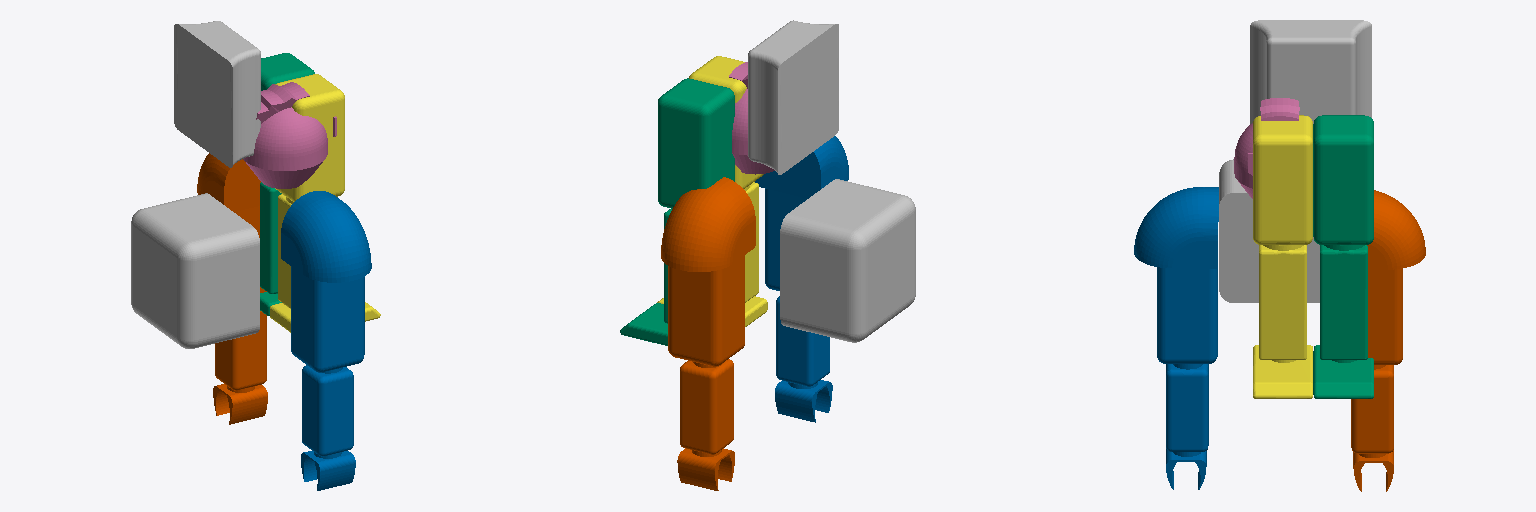
URDF robot description (myfirst):
<?xml version="1.0"?>
<robot name="myfirst">

<material name="blue">
    <color rgba="0 0 0.8 1"/>
  </material>
  <material name="black">
    <color rgba="0 0 0 1"/>
  </material>
  <material name="white">
    <color rgba="1 1 1 1"/>
  </material>
  
  <link name="base_link">
    <visual>
      <origin rpy="0 0 1.5708" xyz="-0.11 -0.2 0.85"/>
      <geometry>
        <mesh filename="package://project_ars/meshes/body.dae"/>
      </geometry>
    </visual>
     <collision>
      <geometry>
        <mesh filename="package://project_ars/meshes/body.dae"/>
      </geometry>
      <origin rpy="0 0 1.5708" xyz="-0.11 -0.2 0.85"/>
    </collision>
    <inertial>
      <mass value="30"/>
      <inertia ixx="1e-3" ixy="0.0" ixz="0.0" iyy="1e-3" iyz="0.0" izz="1e-3"/>
    </inertial>
  </link>
  
  <link name="pelvis">
    <visual>
      <origin rpy="0 0 1.5708" xyz="-0.11 -0.2 0.7"/>
      <geometry>
        <mesh filename="package://project_ars/meshes/pelvis.dae"/>
      </geometry>
    </visual>
     <collision>
      <geometry>
        <mesh filename="package://project_ars/meshes/pelvis.dae"/>
      </geometry>
      <origin rpy="0 0 1.5708" xyz="-0.11 -0.2 0.7"/>
    </collision>
    <inertial>
      <mass value="30"/>
      <inertia ixx="1e-3" ixy="0.0" ixz="0.0" iyy="1e-3" iyz="0.0" izz="1e-3"/>
    </inertial>
  </link>
  
  <joint name="base_link_to_left_leg" type="fixed">
    <axis xyz="0 -0.5 0"/>
    <limit effort="1000.0" lower="-0.850" upper="1.3" velocity="0.5"/>
    <parent link="base_link"/>
    <child link="pelvis"/>
    <origin rpy="0 0 0" xyz="0.1 0.1 0.75"/>
  </joint>
 
   <link name="left_leg">
    <visual>
      <origin rpy="0 0 1.5708" xyz="-0.1 -0.09 -0.9"/>
      <geometry>
        <mesh filename="package://project_ars/meshes/LegSat.dae"/>
      </geometry>
    </visual>
    <collision>
      <geometry>
        <mesh filename="package://project_ars/meshes/LegSat.dae"/>
      </geometry>
      <origin rpy="0 0 1.5708" xyz="-0.1 -0.09 -0.9"/>
    </collision>
    <inertial>
      <mass value="15"/>
      <inertia ixx="1e-3" ixy="0.0" ixz="0.0" iyy="1e-3" iyz="0.0" izz="1e-3"/>
    </inertial>
  </link>
  
  <joint name="base_link_to_left_leg" type="revolute">
    <axis xyz="0 -0.5 0"/>
    <limit effort="1000.0" lower="-0.850" upper="1.3" velocity="0.5"/>
    <parent link="pelvis"/>
    <child link="left_leg"/>
    <origin rpy="0 0 0" xyz="0.1 0.1 0.9"/>
  </joint>
  
  <link name="right_leg">
    <visual>
      <origin rpy="0 0 1.5708" xyz="-0.1 -0.09 -0.9"/>
      <geometry>
        <mesh filename="package://project_ars/meshes/LegSat.dae"/>
      </geometry>
    </visual>
    <collision>
      <geometry>
        <mesh filename="package://project_ars/meshes/LegSat.dae"/>
      </geometry>
      <origin rpy="0 0 1.5708" xyz="-0.1 -0.09 -0.9"/>
    </collision>
    <inertial>
      <mass value="15"/>
      <inertia ixx="1e-3" ixy="0.0" ixz="0.0" iyy="1e-3" iyz="0.0" izz="1e-3"/>
    </inertial>
  </link>
  
  <joint name="base_link_to_right_leg" type="revolute">
    <axis xyz="0 -0.5 0"/>
    <limit effort="1000.0" lower="-0.850" upper="1.3" velocity="0.5"/>
    <parent link="pelvis"/>
    <child link="right_leg"/>
    <origin rpy="0 0 0" xyz="0.1 -0.1 0.9"/>
  </joint>
  
  <link name="right_hand">
    <visual>
      <origin rpy="0 0 1.5708" xyz="-0.13 -0.33 -0.9"/>
      <geometry>
        <mesh filename="package://project_ars/meshes/HandSat.dae"/>
      </geometry>
    </visual>
    <collision>
      <geometry>
        <mesh filename="package://project_ars/meshes/HandSat.dae"/>
      </geometry>
      <origin rpy="0 0 1.5708" xyz="-0.13 -0.33 -0.9"/>
    </collision>
    <inertial>
      <mass value="8"/>
      <inertia ixx="1e-3" ixy="0.0" ixz="0.0" iyy="1e-3" iyz="0.0" izz="1e-3"/>
    </inertial>
  </link>
  
  <joint name="base_link_to_right_hand" type="revolute">
    <axis xyz="0 -0.5 0"/>
    <limit effort="1000.0" lower="-0.850" upper="3.2" velocity="0.5"/>
    <parent link="base_link"/>
    <child link="right_hand"/>
    <origin rpy="0 0 0" xyz="0.1 -0.15 1.2"/>
  </joint>
  
  <link name="left_hand">
    <visual>
      <origin rpy="0 0 1.5708" xyz="-0.13 -0.33 -0.9"/>
      <geometry>
        <mesh filename="package://project_ars/meshes/HandSat.dae"/>
      </geometry>
    </visual>
    <collision>
      <geometry>
        <mesh filename="package://project_ars/meshes/HandSat.dae"/>
      </geometry>
      <origin rpy="0 0 1.5708" xyz="-0.13 -0.33 -0.9"/>
    </collision>
    <inertial>
      <mass value="8"/>
      <inertia ixx="1e-3" ixy="0.0" ixz="0.0" iyy="1e-3" iyz="0.0" izz="1e-3"/>
    </inertial>
  </link>
  
  <joint name="base_link_to_left_hand" type="revolute">
    <axis xyz="0 0.5 0"/>
    <limit effort="1000.0" lower="-0.850" upper="3.2" velocity="0.5"/>
    <parent link="base_link"/>
    <child link="left_hand"/>
    <origin rpy="0 0 3.1416" xyz="0.1 0.15 1.2"/>
  </joint>
  
  <link name="head">
    <visual>
      <origin rpy="0 0 1.5708" xyz="-0.2 -0.15 0"/>
      <geometry>
        <mesh filename="package://project_ars/meshes/HeadSat.dae"/>
      </geometry>
    </visual>
    <collision>
      <geometry>
        <mesh filename="package://project_ars/meshes/HeadSat.dae"/>
      </geometry>
      <origin rpy="0 0 1.5708" xyz="-0.2 -0.15 0"/>
    </collision>
    <inertial>
      <mass value="2"/>
      <inertia ixx="1e-3" ixy="0.0" ixz="0.0" iyy="1e-3" iyz="0.0" izz="1e-3"/>
    </inertial>
  </link>
  
  <joint name="base_link_to_head" type="revolute">
    <axis xyz="0 0 0.5"/>
    <limit effort="1000.0" lower="-0.850" upper="0.850" velocity="0.5"/>
    <parent link="base_link"/>
    <child link="head"/>
    <origin rpy="0 0 0" xyz="0.1 0 1.32"/>
  </joint>
 </robot>
 
 

--- What the picture shows (computed from the rendered views, not written in the file) ---
Views: 3 orthographic renders of the robot side by side, from view 1: azimuth 30°, elevation 25°; view 2: azimuth 150°, elevation 25°; view 3: azimuth 270°, elevation 25°.
Model myfirst with 7 links and 6 joints (5 revolute, 1 fixed), rooted at base_link, posed every joint at zero.
Visible links, largest first — view 1: right_hand, base_link, pelvis, left_hand, head, right_leg, left_leg; view 2: left_hand, base_link, pelvis, left_leg, right_hand, right_leg, head; view 3: right_hand, left_leg, right_leg, pelvis, left_hand, base_link, head.
Boxes of the visible links, x1,y1,x2,y2 form: right_hand: [281, 191, 371, 490]; base_link: [131, 193, 259, 348]; pelvis: [174, 21, 260, 167]; left_hand: [197, 153, 267, 424]; head: [243, 82, 336, 188]; right_leg: [270, 74, 380, 332]; left_leg: [260, 53, 314, 315]; left_hand: [661, 177, 755, 490]; base_link: [780, 179, 915, 342]; pelvis: [748, 20, 838, 174]; left_leg: [620, 78, 734, 345]; right_hand: [755, 136, 848, 422]; right_leg: [657, 56, 767, 326]; head: [729, 62, 774, 174]; right_hand: [1134, 187, 1218, 489]; left_leg: [1313, 115, 1373, 398]; right_leg: [1253, 115, 1312, 398]; pelvis: [1250, 20, 1371, 123]; left_hand: [1351, 190, 1425, 491]; base_link: [1219, 159, 1319, 302]; head: [1234, 98, 1299, 198].
Bounding box of the posed robot: 0.843 × 0.96 × 1.55 m (x, y, z).
Meshes: 5 distinct files referenced, 7 mesh visuals loaded (5 Collada DAE).
